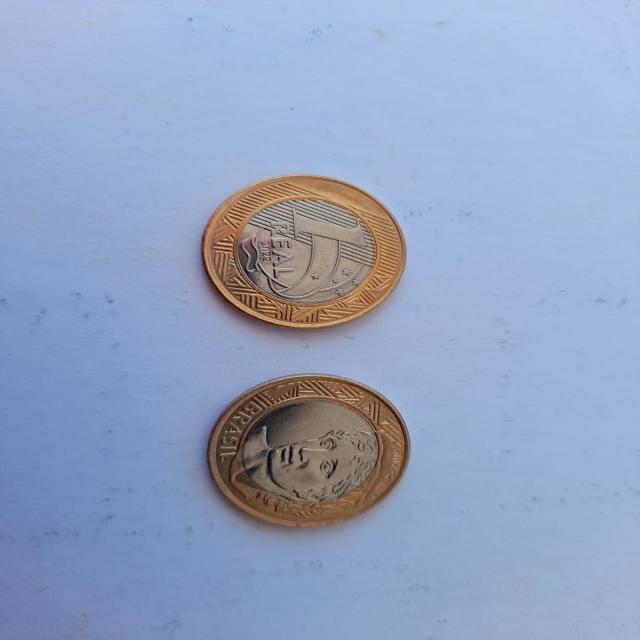1 real: (192, 166, 413, 332), (197, 372, 419, 536)
